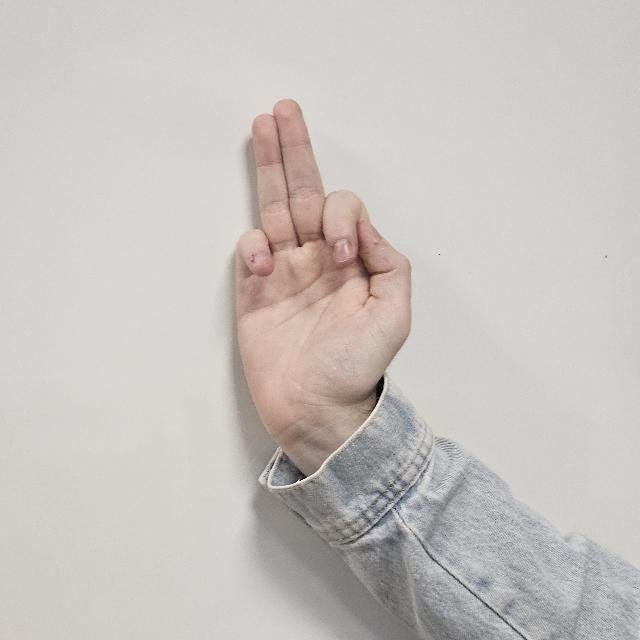R: (230, 99, 412, 445)
